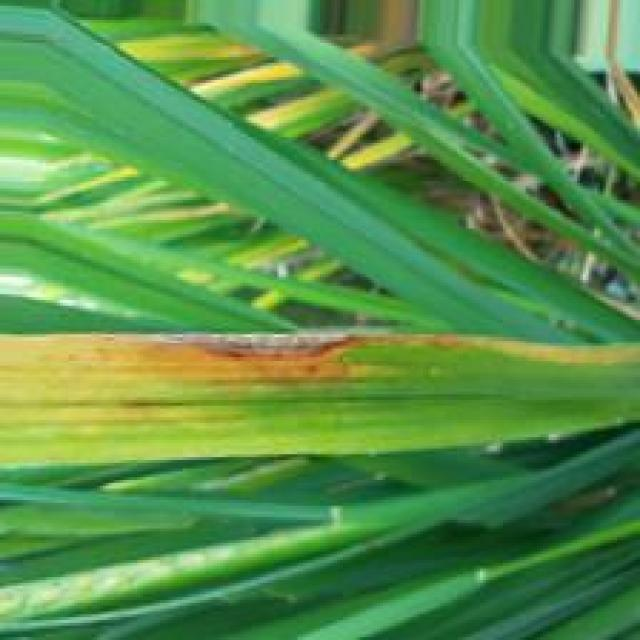Leaf_Blast: (127, 333, 373, 365)
